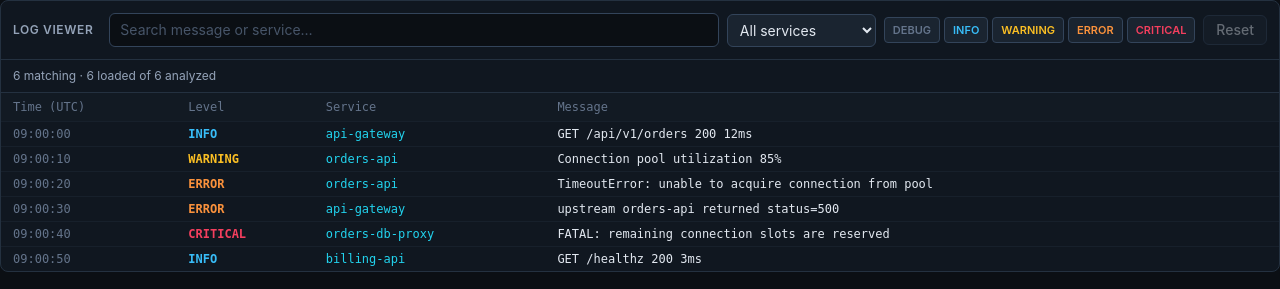
Test: LogViewer › filters by severity toggle
The width and height of the screenshot is (1280, 289).
Click the button "INFO" at (966, 30), box [944,17,988,43]
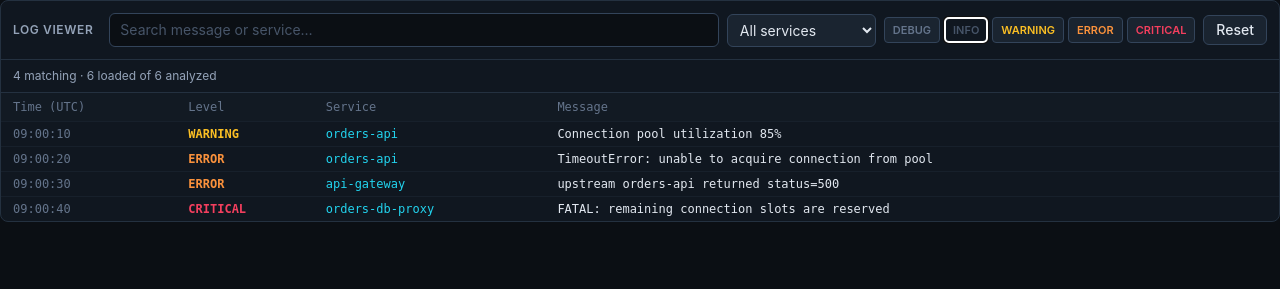
Result: the number of rows with test id "log-row" is 4 at [1,122,1279,146]; [1,146,1279,172]; [1,172,1279,196]; [1,196,1279,221]
